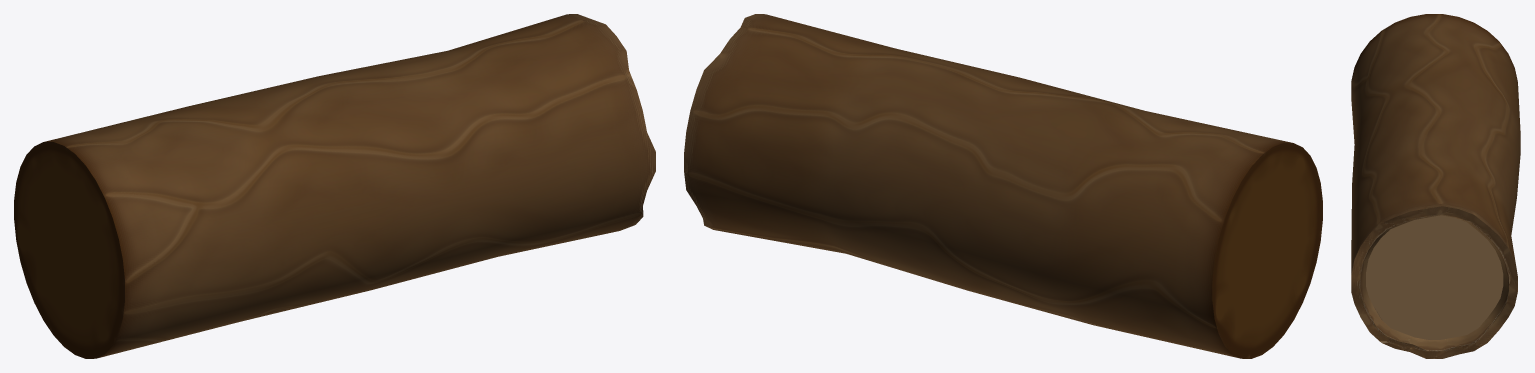
The model's file is LOG1.fbx.
The picture shows the model from 3 angles, left to right: view 1: azimuth 30°, elevation 25°; view 2: azimuth 150°, elevation 25°; view 3: azimuth 270°, elevation 25°; orthographic projection. The views are drawn at different scales.
Parts seen in each view (by area): view 1: Log_Wall_piece; view 2: Log_Wall_piece; view 3: Log_Wall_piece.
Part boxes in pixels (left/top/right/bottom): Log_Wall_piece: left=14, top=14, right=655, bottom=358; Log_Wall_piece: left=684, top=14, right=1322, bottom=358; Log_Wall_piece: left=1351, top=14, right=1520, bottom=358.
Bounding box in the file's own units: 50.63 × 18.38 × 18.65.
